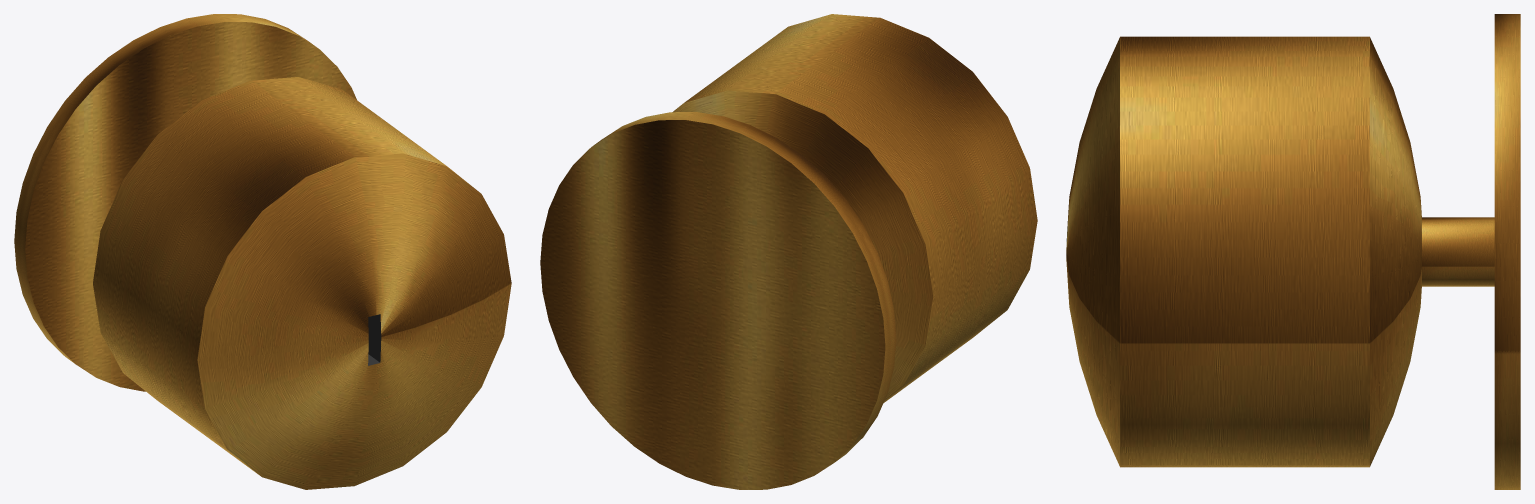
File: türklinke.fbx
The picture shows the model from 3 angles, left to right: view 1: azimuth 30°, elevation 25°; view 2: azimuth 150°, elevation 25°; view 3: azimuth 270°, elevation 25°; orthographic projection. The views are drawn at different scales.
Visible parts, largest first — view 1: Oil_Tank, doorknob, Cube; view 2: doorknob, Oil_Tank; view 3: Oil_Tank, doorknob, verbindungsdings.
Part boxes in pixels (<box>): Oil_Tank: <box>93,77,511,489</box>; doorknob: <box>14,14,356,391</box>; Cube: <box>368,314,381,365</box>; doorknob: <box>540,112,896,489</box>; Oil_Tank: <box>672,14,1037,402</box>; Oil_Tank: <box>1066,36,1421,467</box>; doorknob: <box>1494,14,1520,489</box>; verbindungsdings: <box>1422,217,1494,286</box>.
Bounding box in the file's own units: 103 × 103 × 98.75.
2 materials, 1 textured.
